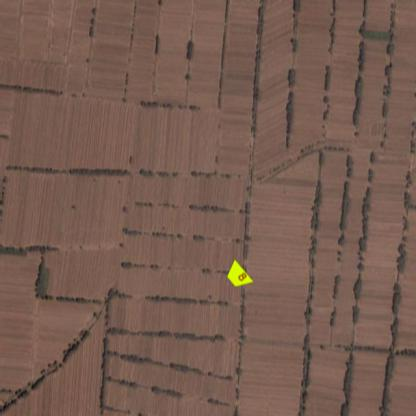8: (237, 272, 248, 282)
trapezium: (226, 260, 254, 288)
